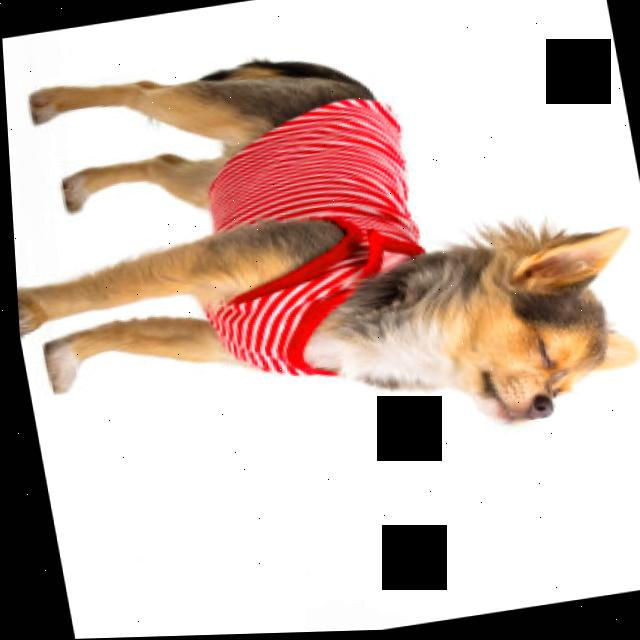cloth: (202, 101, 420, 376)
